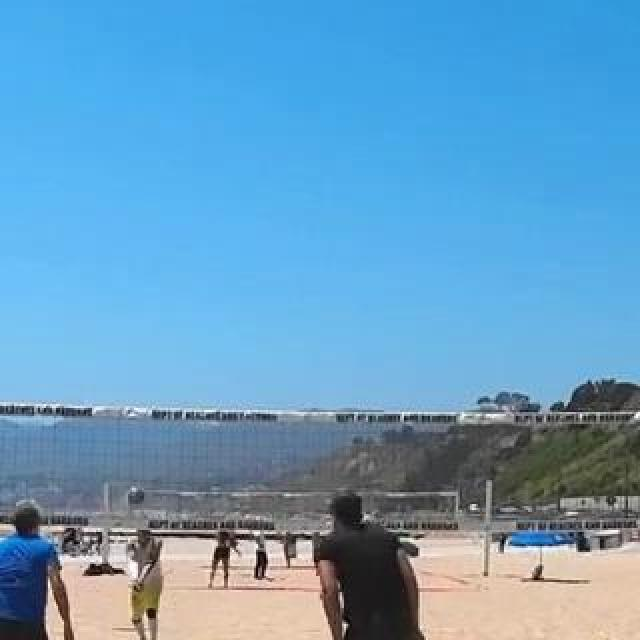volleyball: (129, 487, 145, 505)
